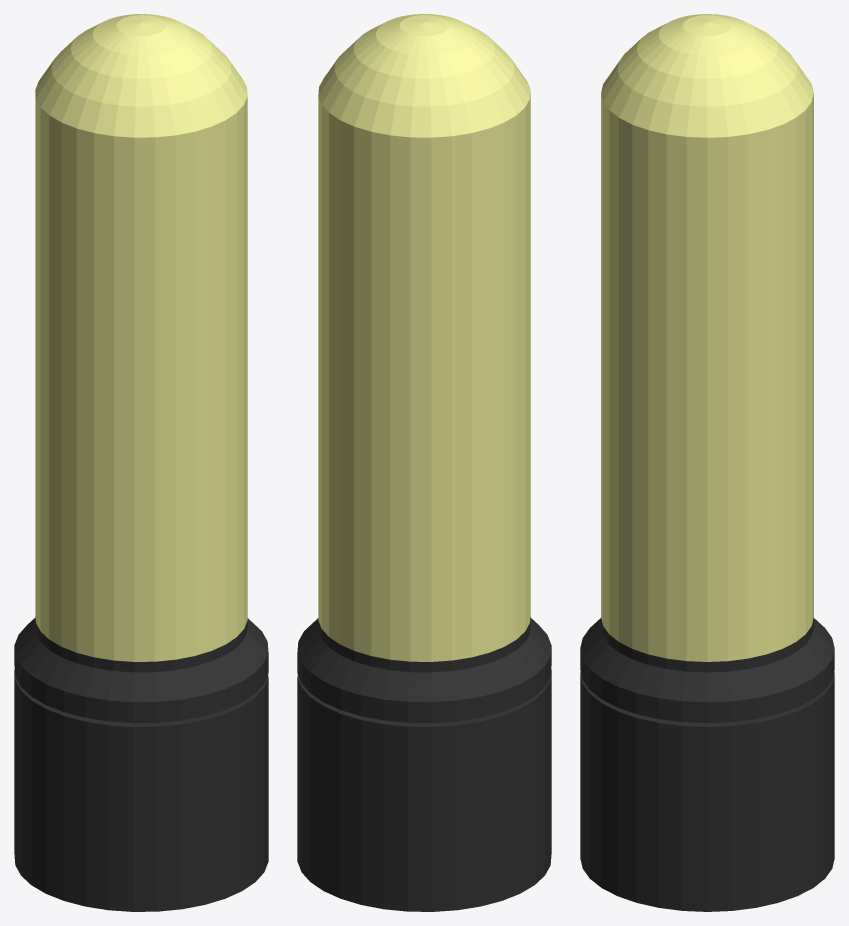
File: Shields-lamp.glb
3 views of the same model, side by side, from view 1: azimuth 30°, elevation 25°; view 2: azimuth 150°, elevation 25°; view 3: azimuth 270°, elevation 25° (orthographic).
Parts seen in each view (by area): view 1: Sphere.001, Sphere; view 2: Sphere.001, Sphere; view 3: Sphere.001, Sphere.
Part boxes in pixels (x1,y1,x2,y2): Sphere.001: [35, 14, 247, 661]; Sphere: [14, 616, 268, 911]; Sphere.001: [318, 14, 530, 661]; Sphere: [297, 616, 551, 911]; Sphere.001: [601, 14, 813, 661]; Sphere: [580, 617, 834, 911].
Bounding box in the file's own units: 2.2 × 7.97 × 2.2.
